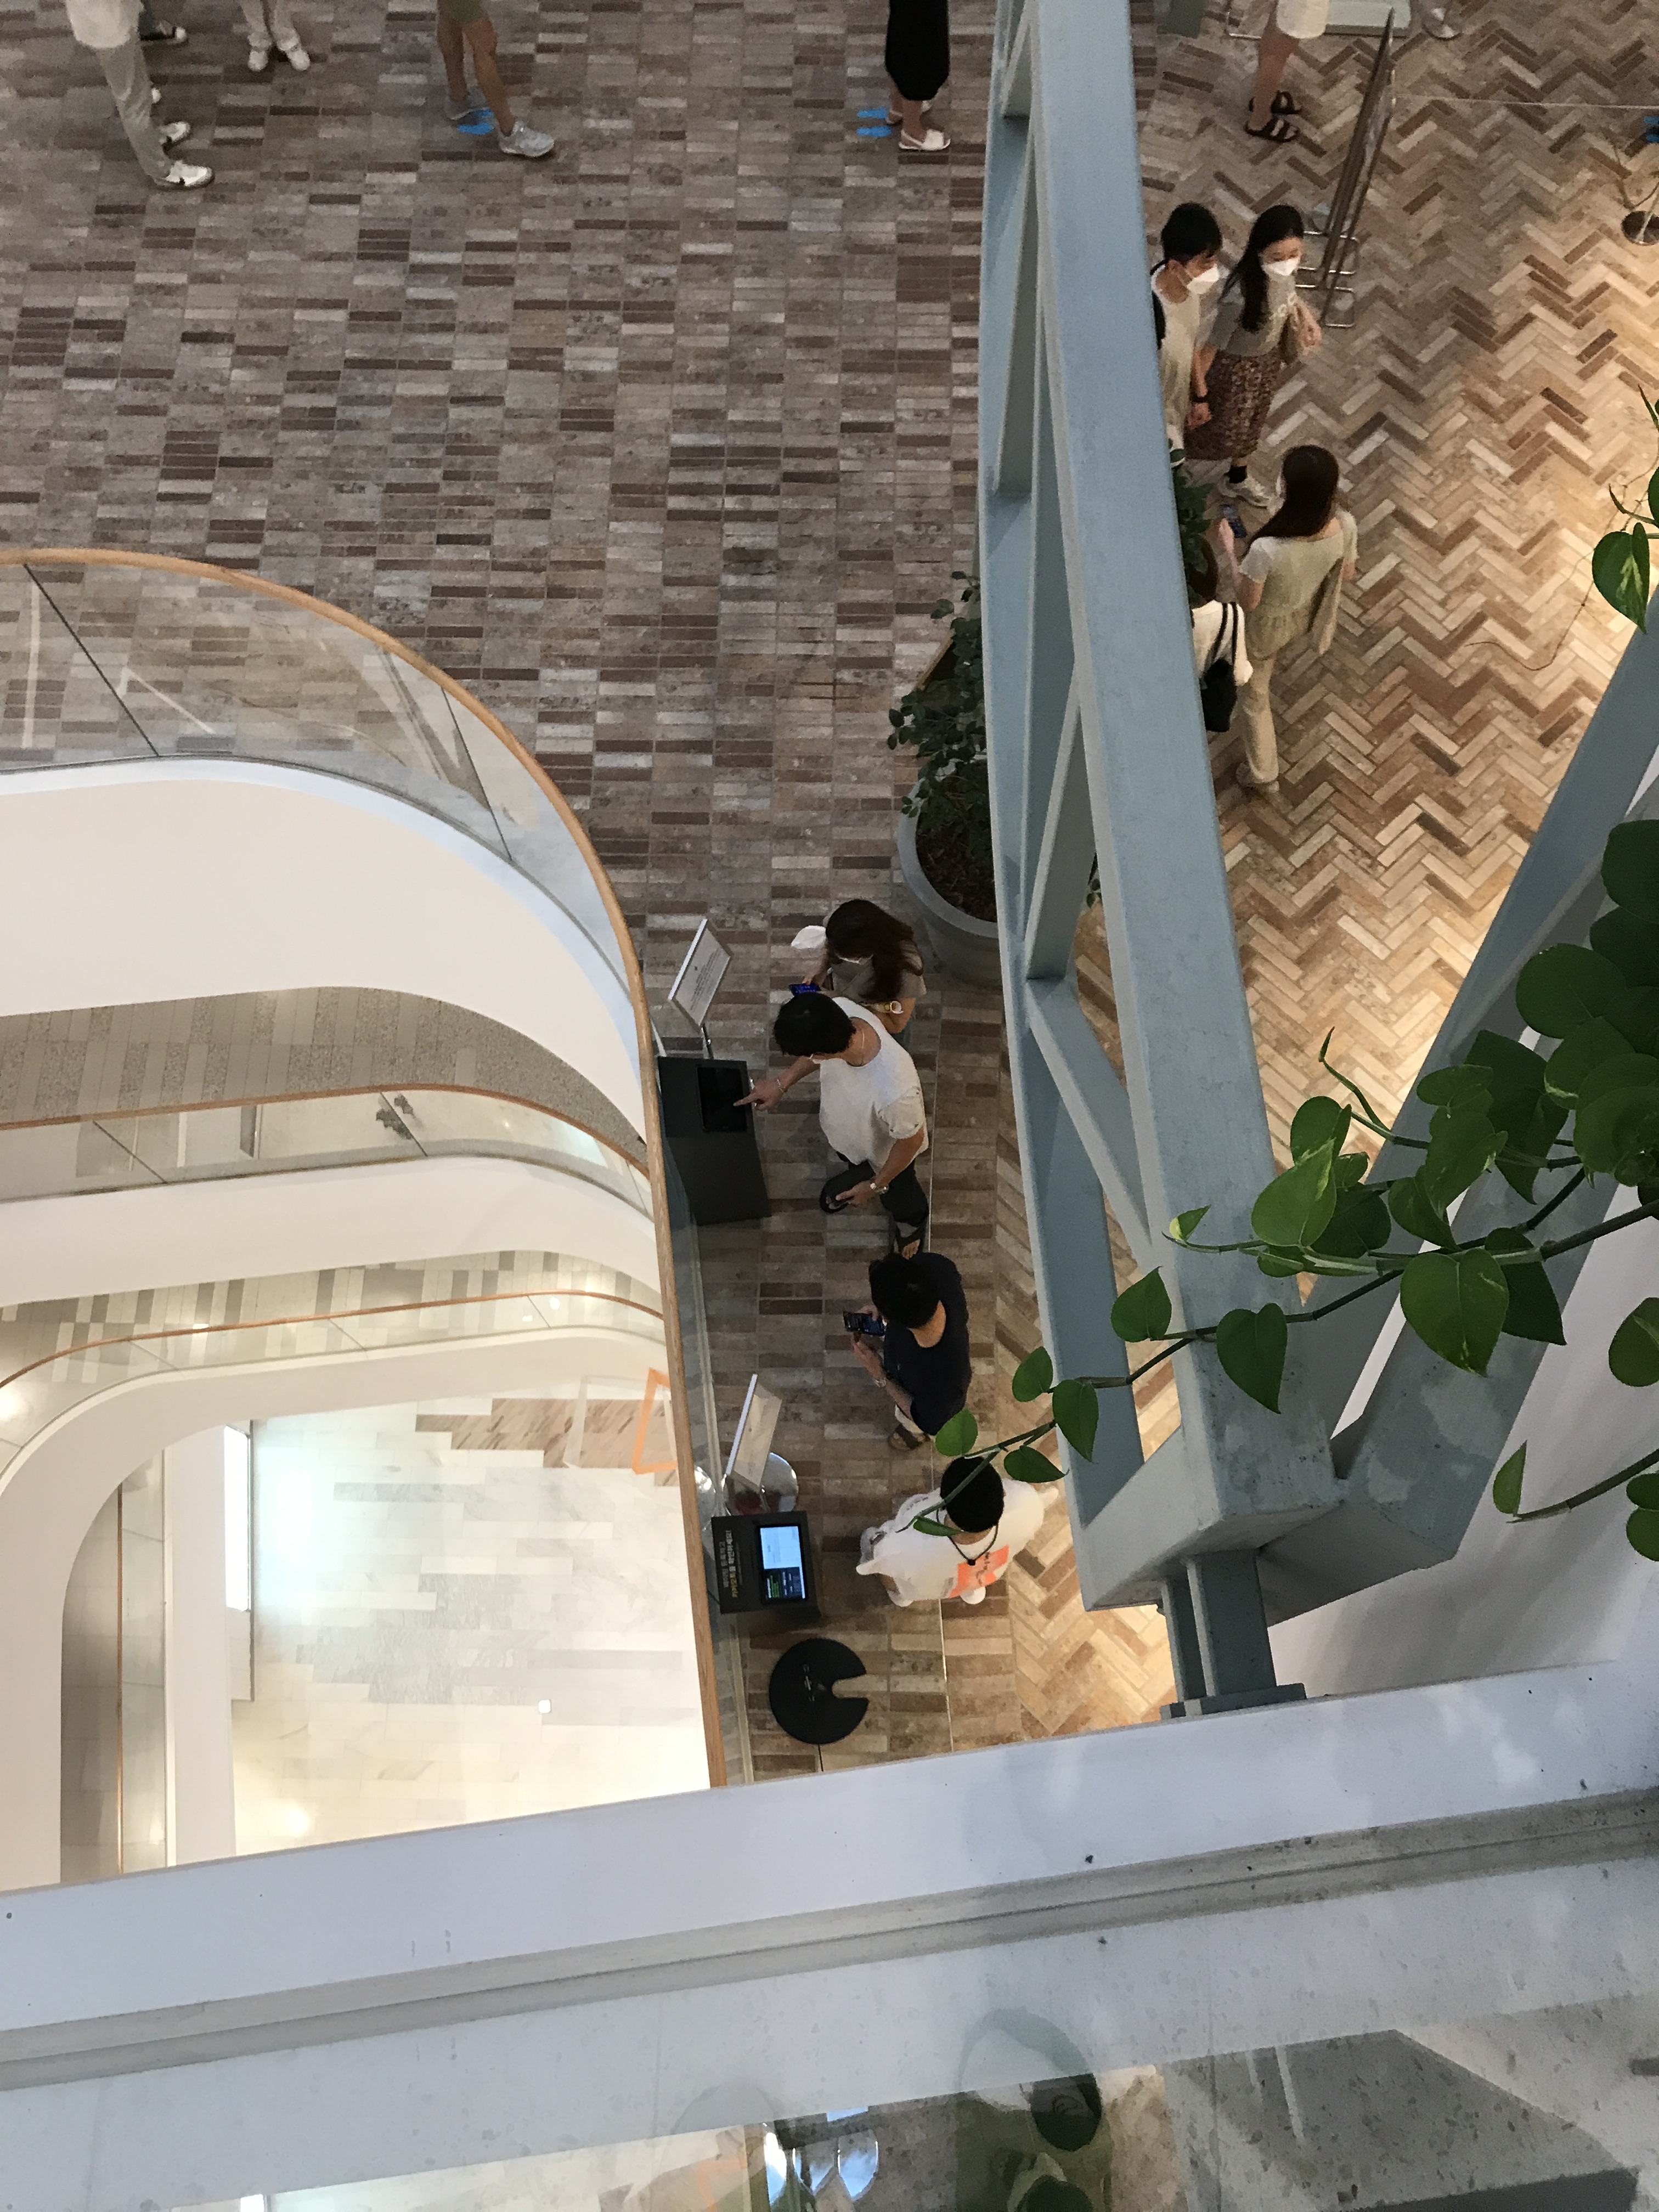person: (735, 985, 942, 1254), (1231, 455, 1344, 793), (1204, 211, 1329, 498), (862, 1461, 1052, 1616), (70, 1, 216, 199), (841, 1248, 975, 1461), (427, 1, 558, 168), (1152, 205, 1219, 443), (792, 915, 933, 1019), (893, 1, 948, 153)
